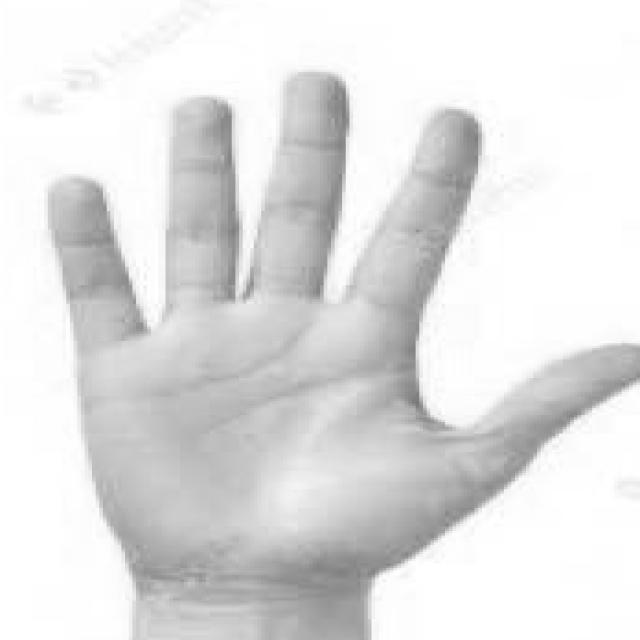stop: (33, 60, 640, 594)
